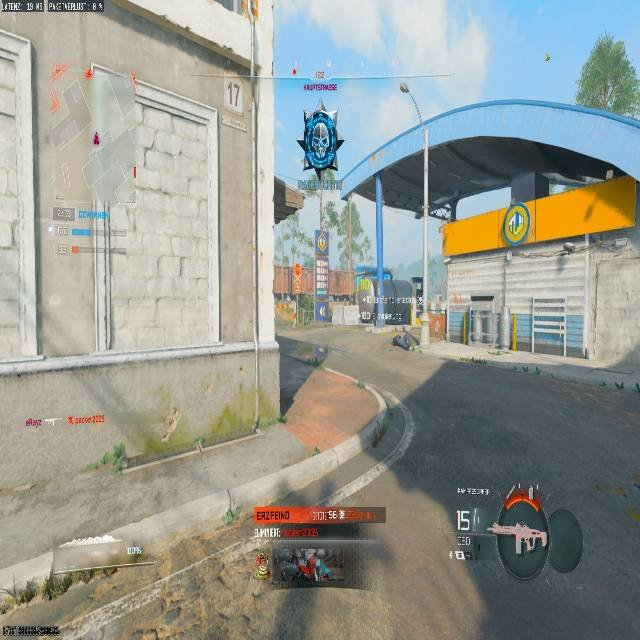player: (296, 108, 343, 175)
